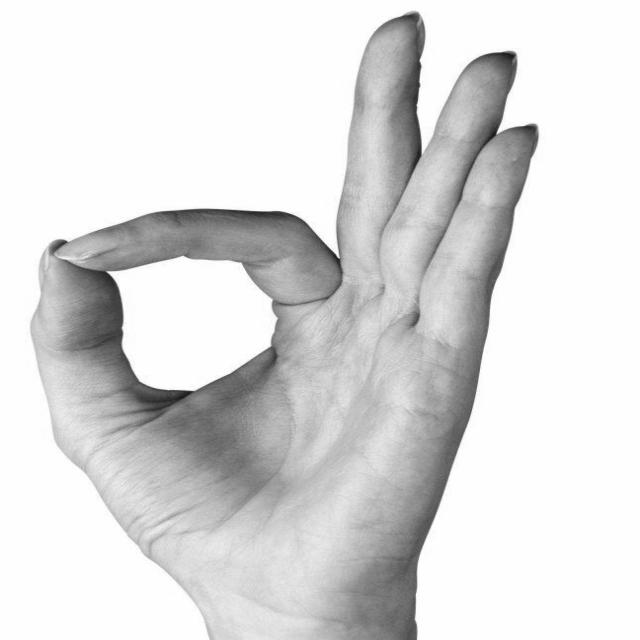perfect: (13, 0, 549, 635)
